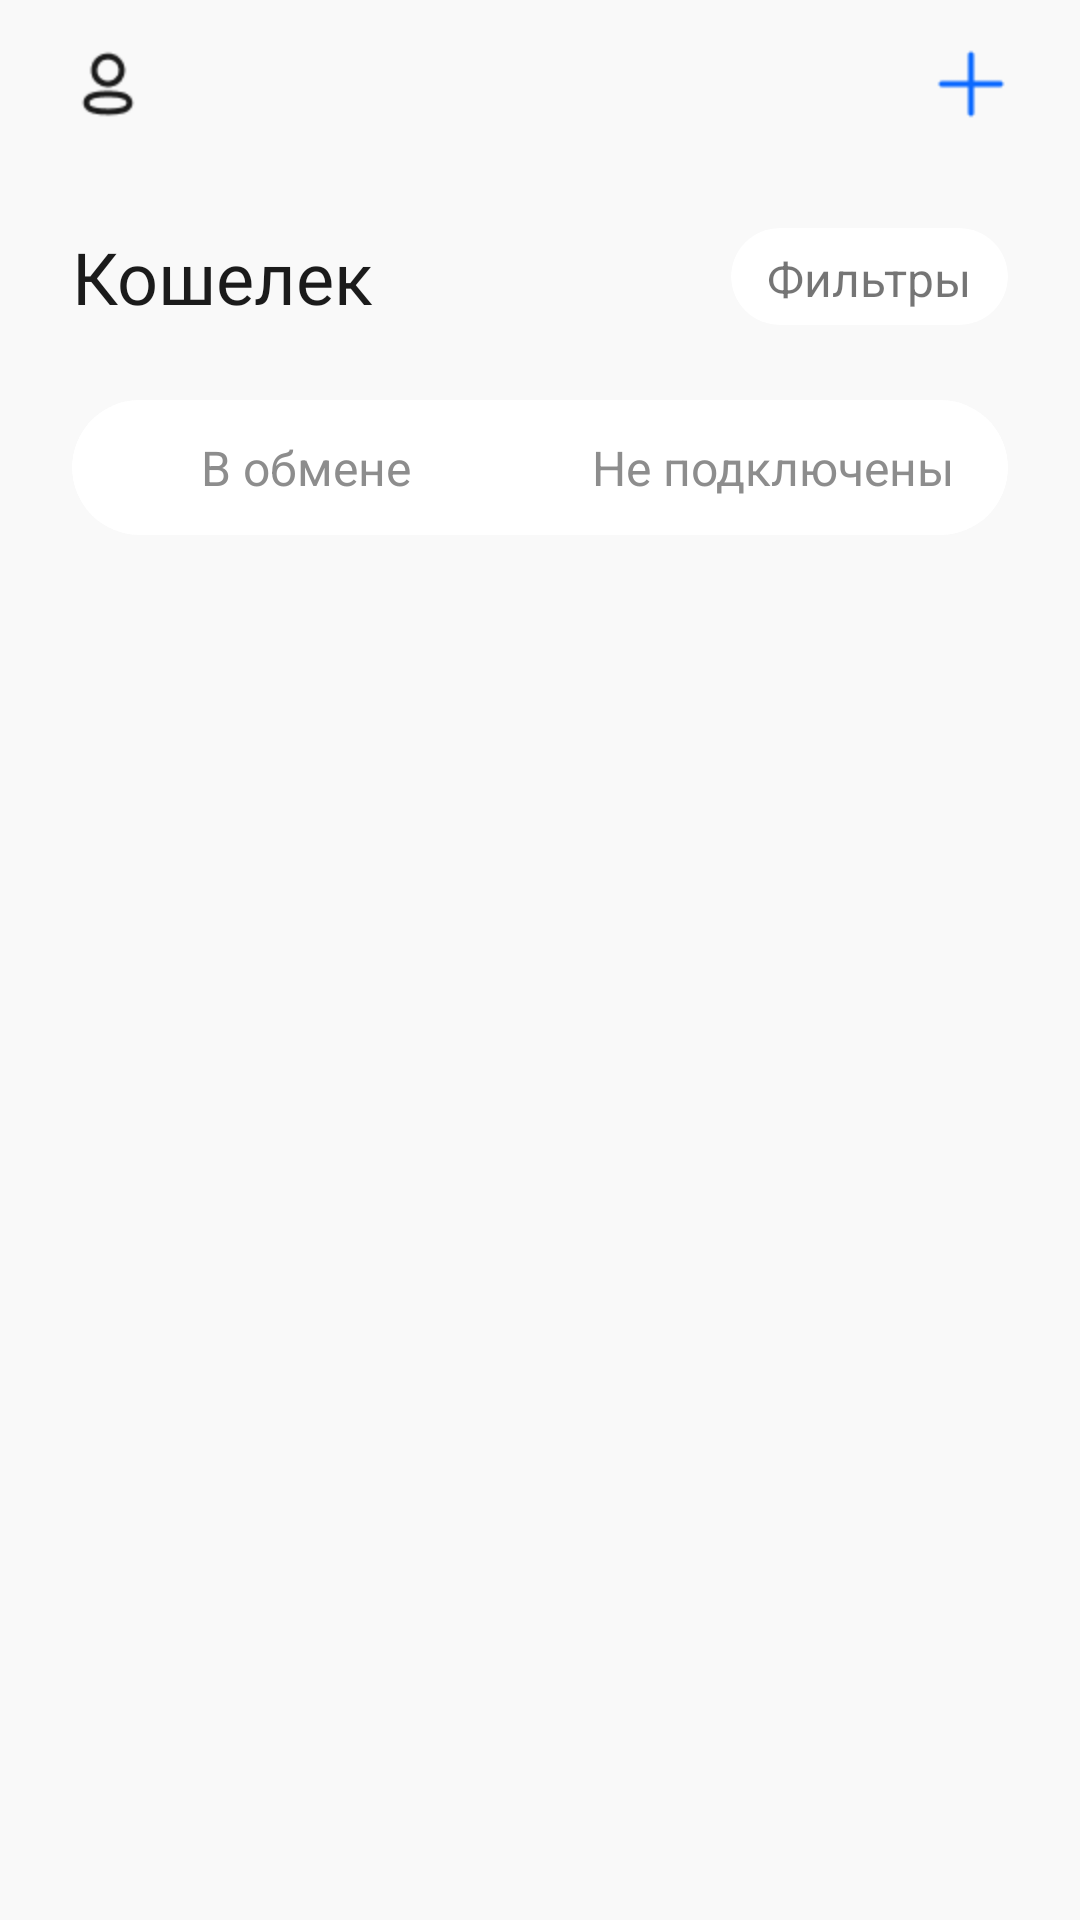

Screen size 1080px×1920px. Icon name, then its box in pixels as detection(x1, y1, x2, y2):
plus: detection(938, 50, 1005, 118)
profile: detection(82, 52, 134, 116)
